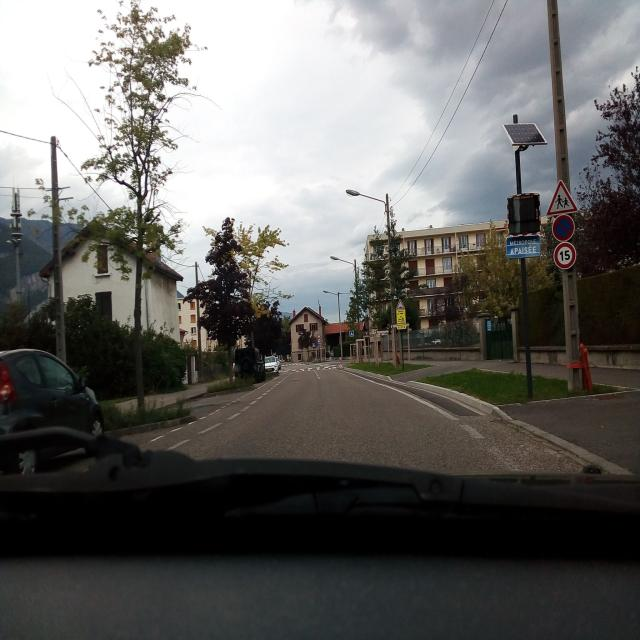forb_stopping: (552, 215, 574, 241)
